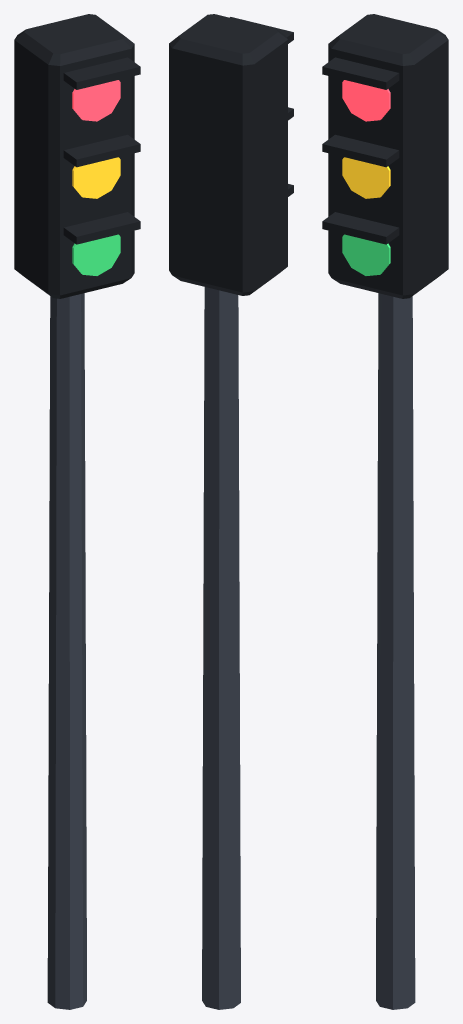
Rendered from traffic_light.glb.
The picture shows the model from 3 angles, left to right: view 1: azimuth 30°, elevation 25°; view 2: azimuth 150°, elevation 25°; view 3: azimuth 330°, elevation 25°; orthographic projection.
Visible parts, largest first — view 1: traffic_light; view 2: traffic_light; view 3: traffic_light.
Part boxes in pixels (x1,y1,x2,y2): traffic_light: [14, 14, 140, 1009]; traffic_light: [169, 14, 293, 1009]; traffic_light: [322, 14, 448, 1009].
Bounding box in the file's own units: 0.35 × 3.78 × 0.39.
